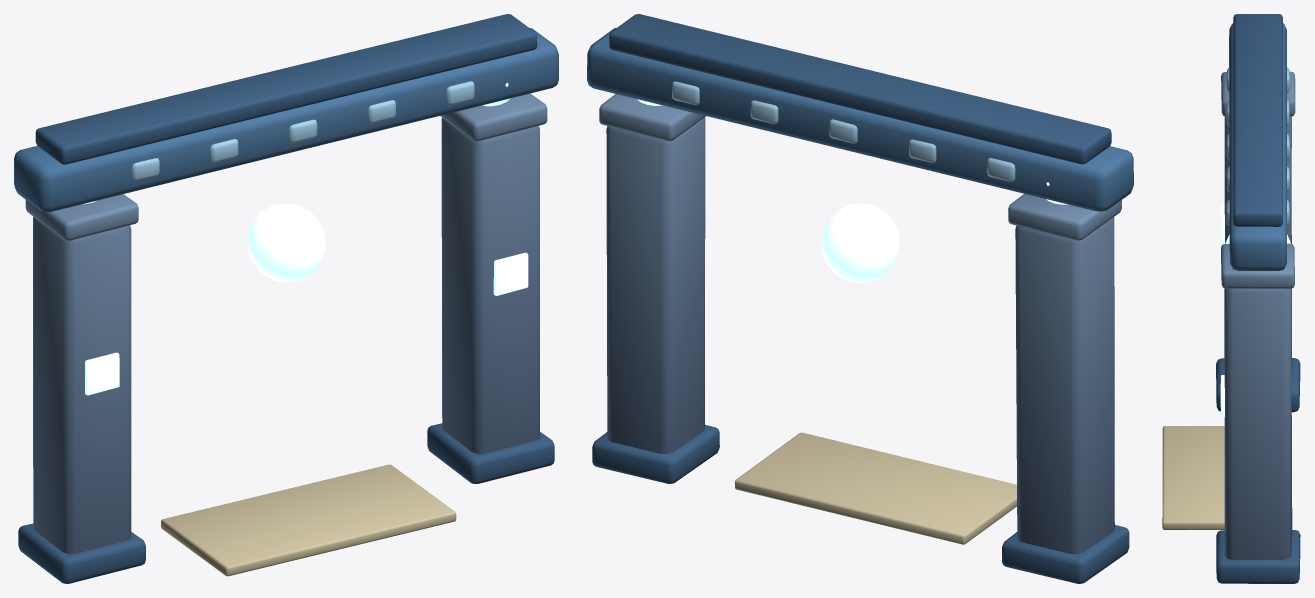
The picture shows the model from 3 angles, left to right: view 1: azimuth 30°, elevation 25°; view 2: azimuth 150°, elevation 25°; view 3: azimuth 270°, elevation 25°; orthographic projection. The views are drawn at different scales.
Visible parts, largest first — view 1: gate_68a3c228; view 2: gate_68a3c228; view 3: gate_68a3c228.
Boxes of the visible parts, x1=… form: gate_68a3c228: x1=14, y1=14, x2=558, y2=583; gate_68a3c228: x1=587, y1=14, x2=1133, y2=583; gate_68a3c228: x1=1162, y1=14, x2=1300, y2=583.
Size of the model in its own units: 5.42 by 4.28 by 1.44.
